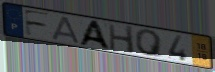4: (167, 34, 189, 63)
A: (76, 19, 113, 51), (51, 15, 82, 46)
F: (23, 8, 52, 38)
H: (107, 23, 136, 56)
Q: (134, 29, 164, 59)
